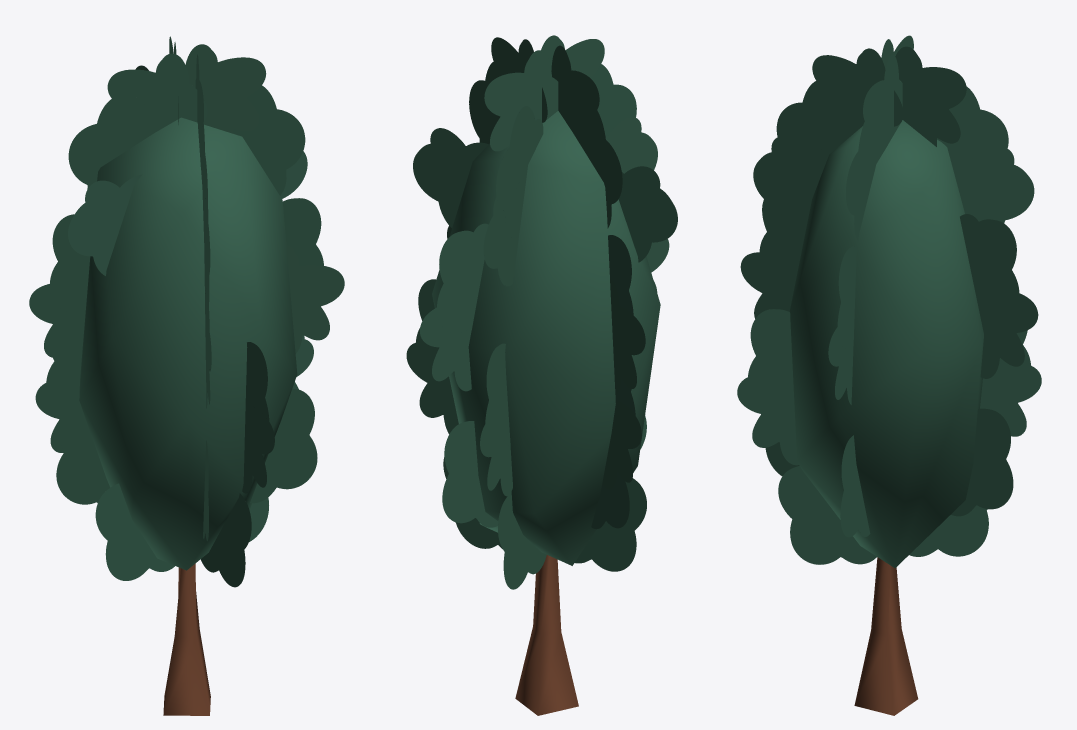
File: FBX_Tree_C_2.fbx
3 renders of one model, left to right at view 1: azimuth 30°, elevation 25°; view 2: azimuth 150°, elevation 25°; view 3: azimuth 270°, elevation 25°, orthographic.
Visible parts, largest first — view 1: Tree_C_2; view 2: Tree_C_2; view 3: Tree_C_2.
Part boxes in pixels (x1,y1,x2,y2): Tree_C_2: (29,36,344,715); Tree_C_2: (406,35,677,715); Tree_C_2: (737,35,1041,715).
Size of the model in its own units: 188 by 193 by 419.
